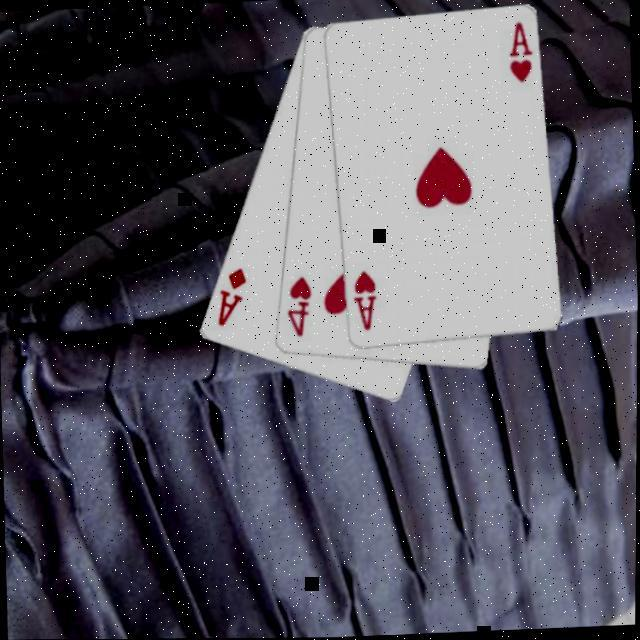4H: (282, 274, 316, 342)
AD: (213, 266, 251, 332)
AH: (504, 21, 536, 88), (349, 270, 381, 336)
